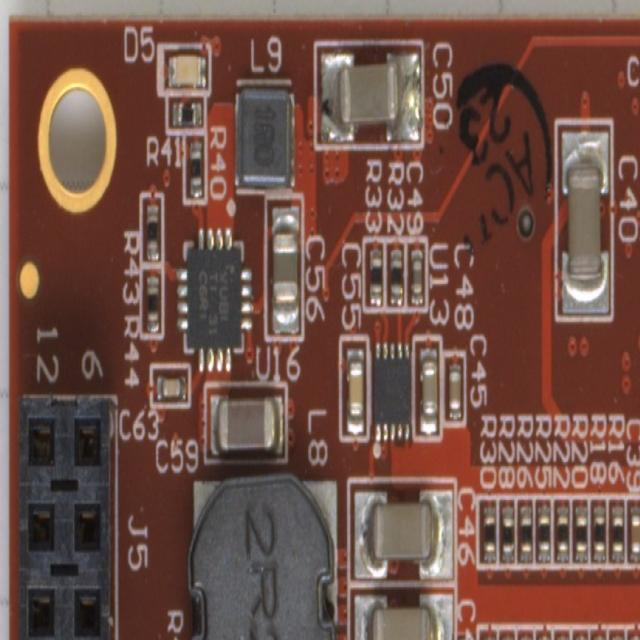IC: (175, 226, 252, 376), (371, 338, 409, 443)
LED: (156, 44, 208, 92)
capacitor: (318, 48, 422, 144), (558, 128, 609, 315), (352, 485, 454, 578), (352, 591, 454, 640), (207, 390, 283, 455), (270, 202, 298, 334), (416, 344, 439, 436), (344, 345, 363, 435), (154, 368, 186, 400), (446, 357, 462, 420), (408, 244, 423, 304), (628, 500, 640, 561)
component text: (240, 501, 282, 640), (194, 261, 231, 340), (250, 99, 278, 167)
connector: (15, 394, 114, 640)
inductor: (187, 474, 339, 640), (233, 87, 295, 189)
resistor: (608, 501, 624, 560), (187, 134, 202, 196), (144, 270, 159, 332), (367, 244, 382, 306), (499, 503, 515, 561), (534, 503, 550, 561), (572, 503, 588, 561), (144, 200, 159, 261), (517, 501, 532, 560), (590, 501, 605, 560), (481, 503, 496, 561), (554, 503, 569, 561), (170, 98, 201, 125), (388, 246, 402, 304), (482, 632, 496, 640), (518, 632, 532, 640), (574, 632, 588, 640), (592, 632, 606, 640), (610, 632, 624, 640), (629, 630, 640, 640), (500, 633, 514, 640), (536, 633, 550, 640), (555, 633, 569, 640)
